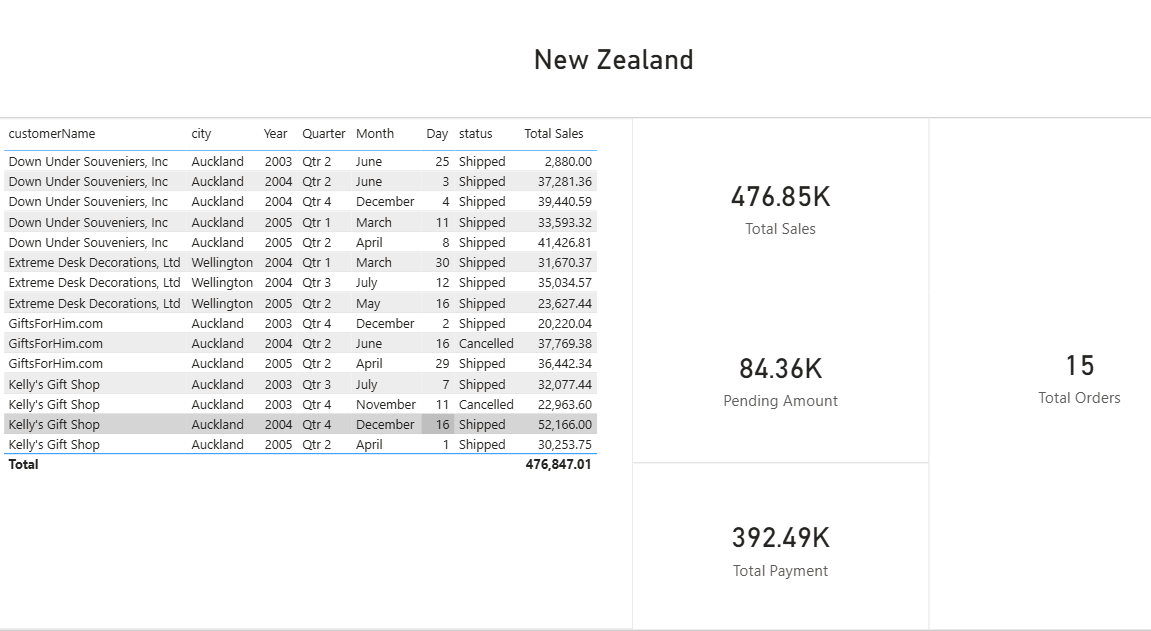

What the dashboard file says about the page in this screenshot:
{"tool":"powerbi","page":{"name":"Country Details","canvas":[1280,720],"ordinal":1},"visuals":[{"type":"actionButton","box":[0,0,100,40],"z":0},{"type":"tableEx","fields":{"Values":["customers.customerName","customers.city","orders.orderDate.Variation.Date Hierarchy.Year","orders.orderDate.Variation.Date Hierarchy.Quarter","orders.orderDate.Variation.Date Hierarchy.Month","orders.orderDate.Variation.Date Hierarchy.Day","orders.status","order details.Total Sales"]},"box":[0,125.7,660,531.4],"z":1000},{"type":"card","fields":{"Values":["Min(Dim_Country.country)"]},"box":[0,0,1280,125],"z":2000},{"type":"card","fields":{"Values":["order details.Total Sales"]},"box":[660,125.7,307.1,180],"z":3000},{"type":"card","fields":{"Values":["classic_models_dataset.Total Payment"]},"box":[660,484.3,307.1,172.9],"z":4000},{"type":"card","fields":{"Values":["classic_models_dataset.Pending Amount"]},"box":[660,305.7,307.1,178.6],"z":5000},{"type":"card","fields":{"Values":["classic_models_dataset.Total Orders"]},"box":[967.1,125.7,312.9,531.4],"z":6000}]}

Visuals, with their boxes in screenshot pixels (x1, y1, x2, y2), scaled from the page's 1280x720 canvas onto the 1151x631 screenshot:
actionButton: Rect(0, 0, 90, 35)
tableEx - customers.customerName x customers.city: Rect(0, 110, 593, 576)
card - Min(Dim_Country.country): Rect(0, 0, 1150, 110)
card - order details.Total Sales: Rect(593, 110, 870, 268)
card - classic_models_dataset.Total Payment: Rect(593, 424, 870, 576)
card - classic_models_dataset.Pending Amount: Rect(593, 268, 870, 424)
card - classic_models_dataset.Total Orders: Rect(870, 110, 1150, 576)
